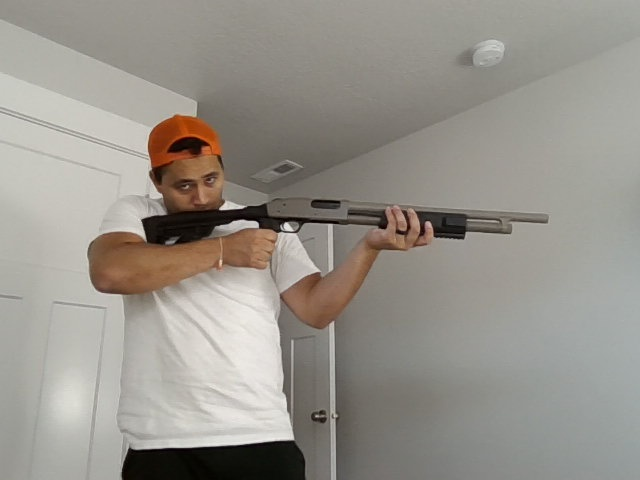shotgun: (140, 197, 550, 246)
